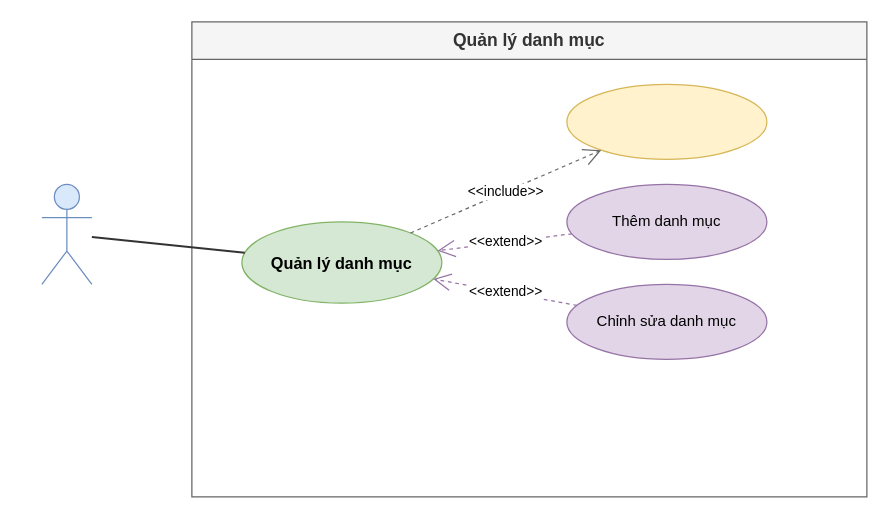
Image size: 889x519. Some labels were removed from this diagram. Each missing label, with the centre of its shape:
Quản trị viên: the point at 66,233
Xem danh sách danh mục: the point at 666,121
